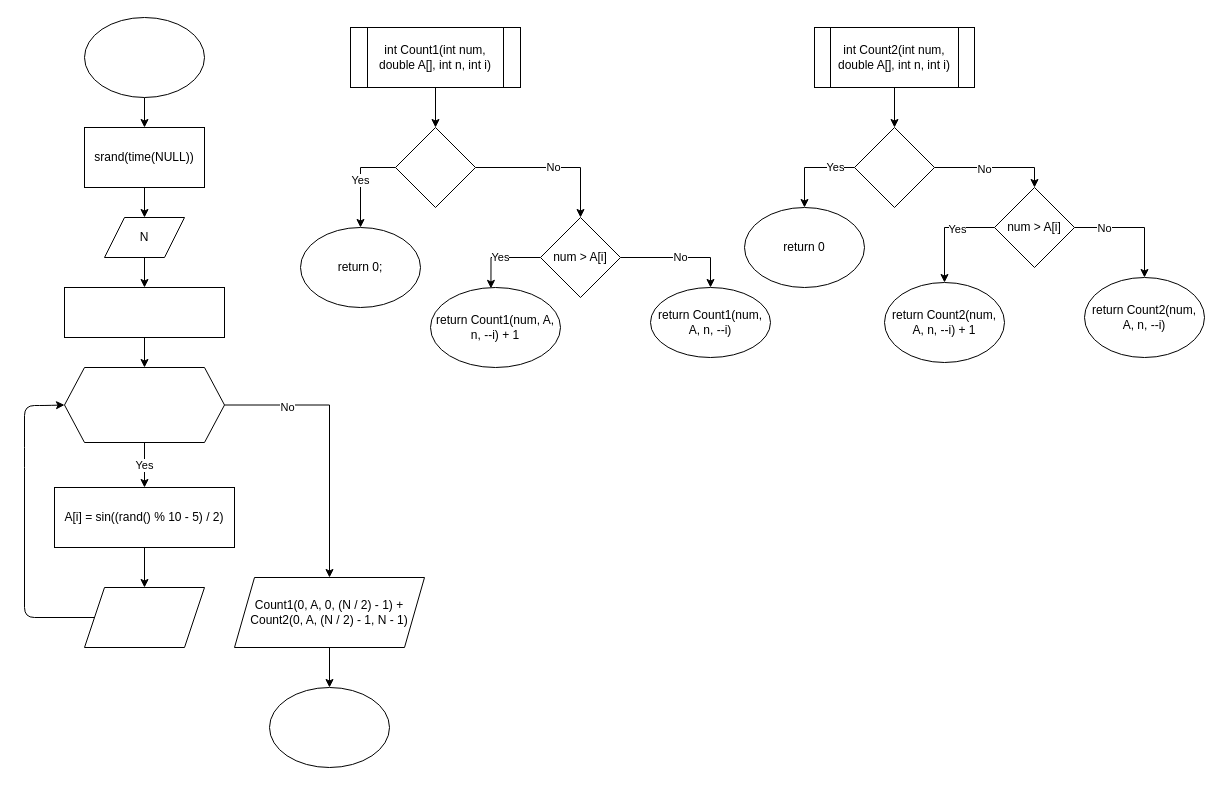
Image size: 1222x785. Some labels were removed from this diagram. Here are the shapes that lost their labels. From the top down, the centre of each, then its label:
[144,57]: Start
[435,167]: i == -1
[894,167]: i == n
[144,312]: double* A = new double[N]
[144,404]: for (int i = 0; i < N; i++)
[144,617]: A[i]
[329,727]: End
